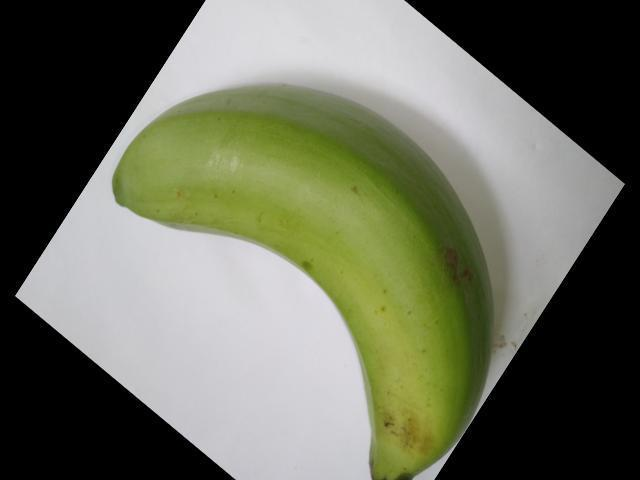freshunripe: (94, 66, 511, 479)
